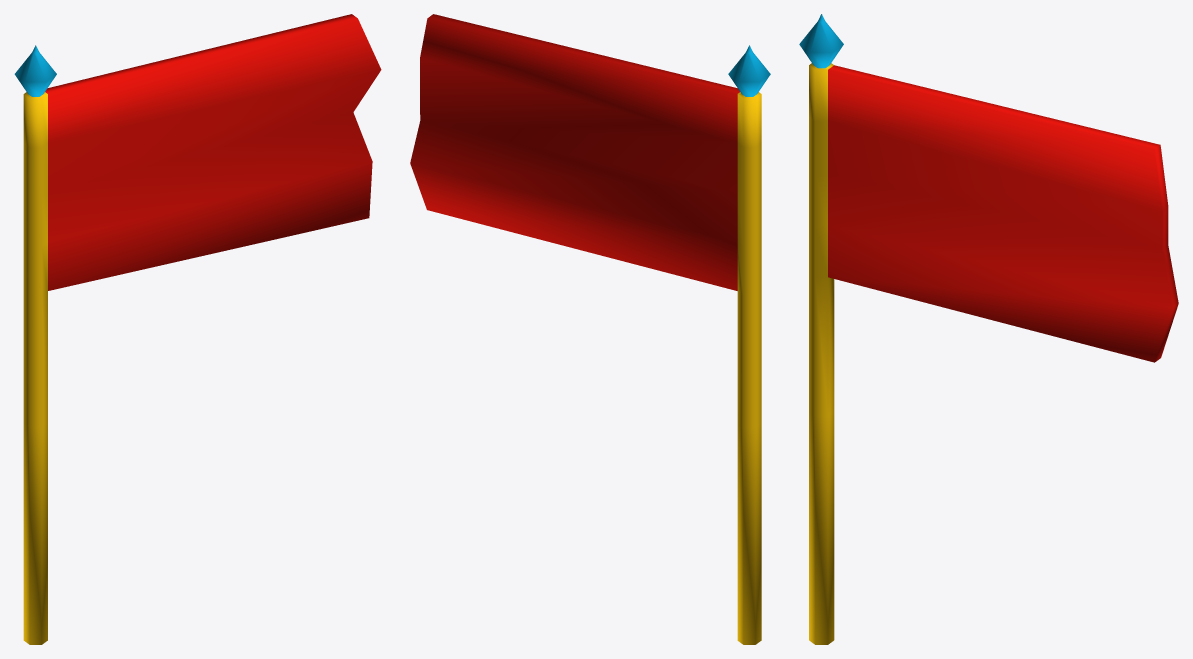
The model's file is Pole.fbx.
The picture shows the model from 3 angles, left to right: view 1: azimuth 30°, elevation 25°; view 2: azimuth 150°, elevation 25°; view 3: azimuth 330°, elevation 25°; orthographic projection. The views are drawn at different scales.
Parts seen in each view (by area): view 1: Pole; view 2: Pole; view 3: Pole.
Part boxes in pixels (x1,y1,x2,y2): Pole: [14, 14, 381, 644]; Pole: [410, 14, 770, 644]; Pole: [799, 14, 1178, 644].
Bounding box in the file's own units: 3373 × 362 × 5463.
